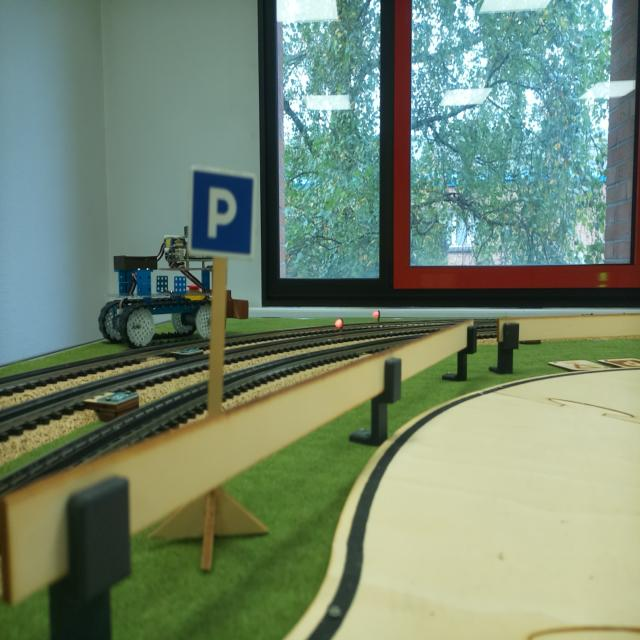obstacle_voiture: (98, 232, 194, 345)
panneau_parking: (192, 166, 256, 267)
